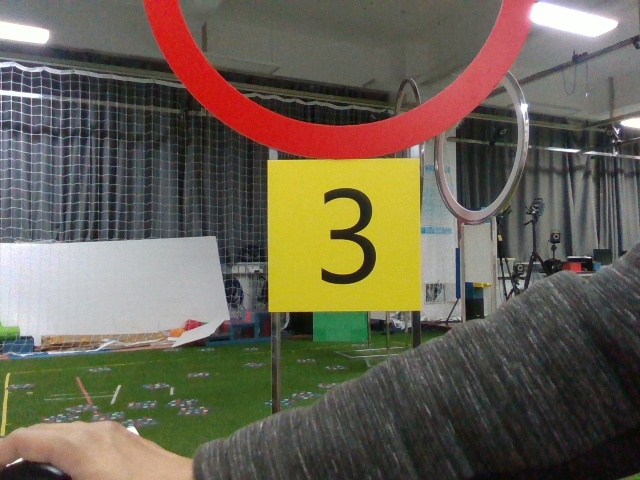target: (270, 166, 408, 313)
